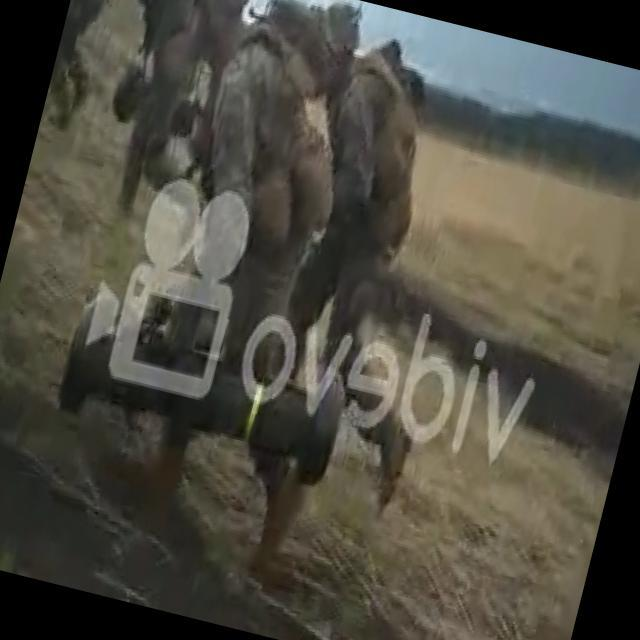rocket: (58, 305, 348, 474)
